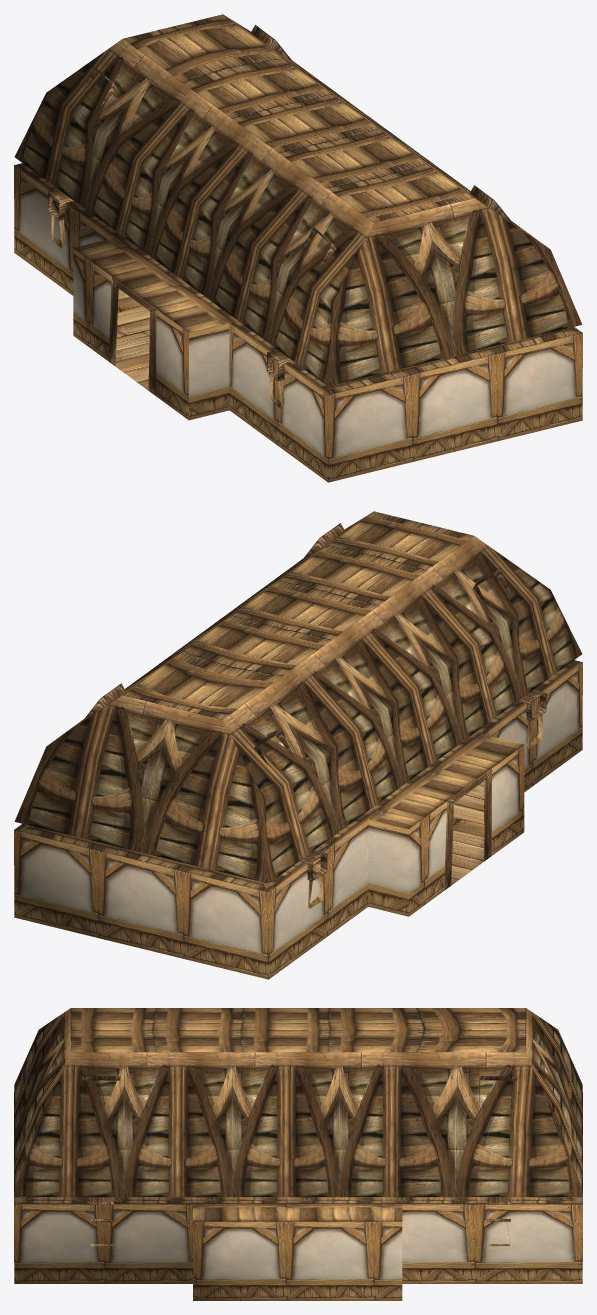
Rendered from stormwind_270.fbx.
The picture shows the model from 3 angles, top to bottom: view 1: azimuth 30°, elevation 25°; view 2: azimuth 150°, elevation 25°; view 3: azimuth 270°, elevation 25°; orthographic projection. The views are drawn at different scales.
Parts seen in each view (by area): view 1: stormwind_270_49, stormwind_270_48, stormwind_270_55, stormwind_270_53, stormwind_270_51; view 2: stormwind_270_49, stormwind_270_48, stormwind_270_55, stormwind_270_53, stormwind_270_51; view 3: stormwind_270_49, stormwind_270_48, stormwind_270_55, stormwind_270_53.
Boxes of the visible parts, bbox=[...] form: stormwind_270_49: bbox=[14, 15, 582, 386]; stormwind_270_48: bbox=[14, 165, 582, 482]; stormwind_270_55: bbox=[14, 14, 582, 394]; stormwind_270_53: bbox=[48, 25, 512, 408]; stormwind_270_51: bbox=[115, 289, 149, 390]; stormwind_270_49: bbox=[14, 512, 582, 883]; stormwind_270_48: bbox=[14, 662, 582, 979]; stormwind_270_55: bbox=[14, 511, 582, 891]; stormwind_270_53: bbox=[83, 523, 546, 908]; stormwind_270_51: bbox=[451, 781, 484, 885]; stormwind_270_49: bbox=[14, 1008, 582, 1197]; stormwind_270_48: bbox=[14, 1204, 582, 1300]; stormwind_270_55: bbox=[14, 1008, 582, 1221]; stormwind_270_53: bbox=[82, 1076, 517, 1246].
Bounding box in the file's own units: 19.95 × 12.49 × 32.56.
